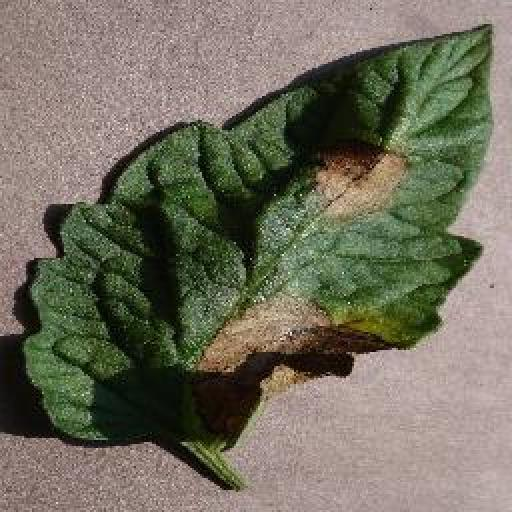Late Blight: (19, 21, 493, 451)
